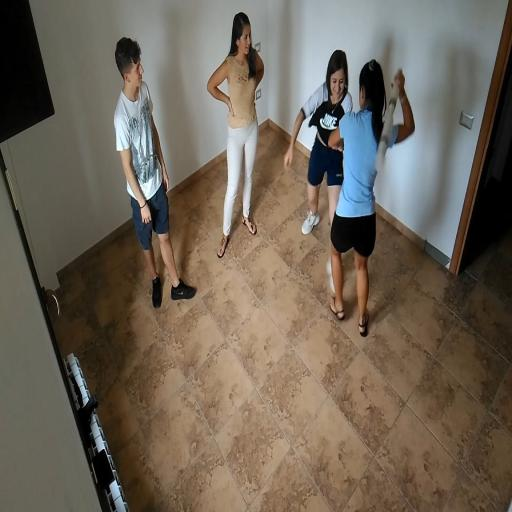violencia: (278, 27, 418, 344)
